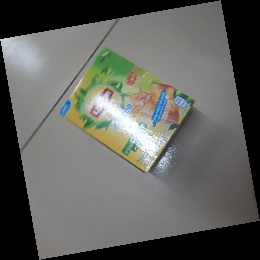LipTon: (55, 48, 197, 174)
